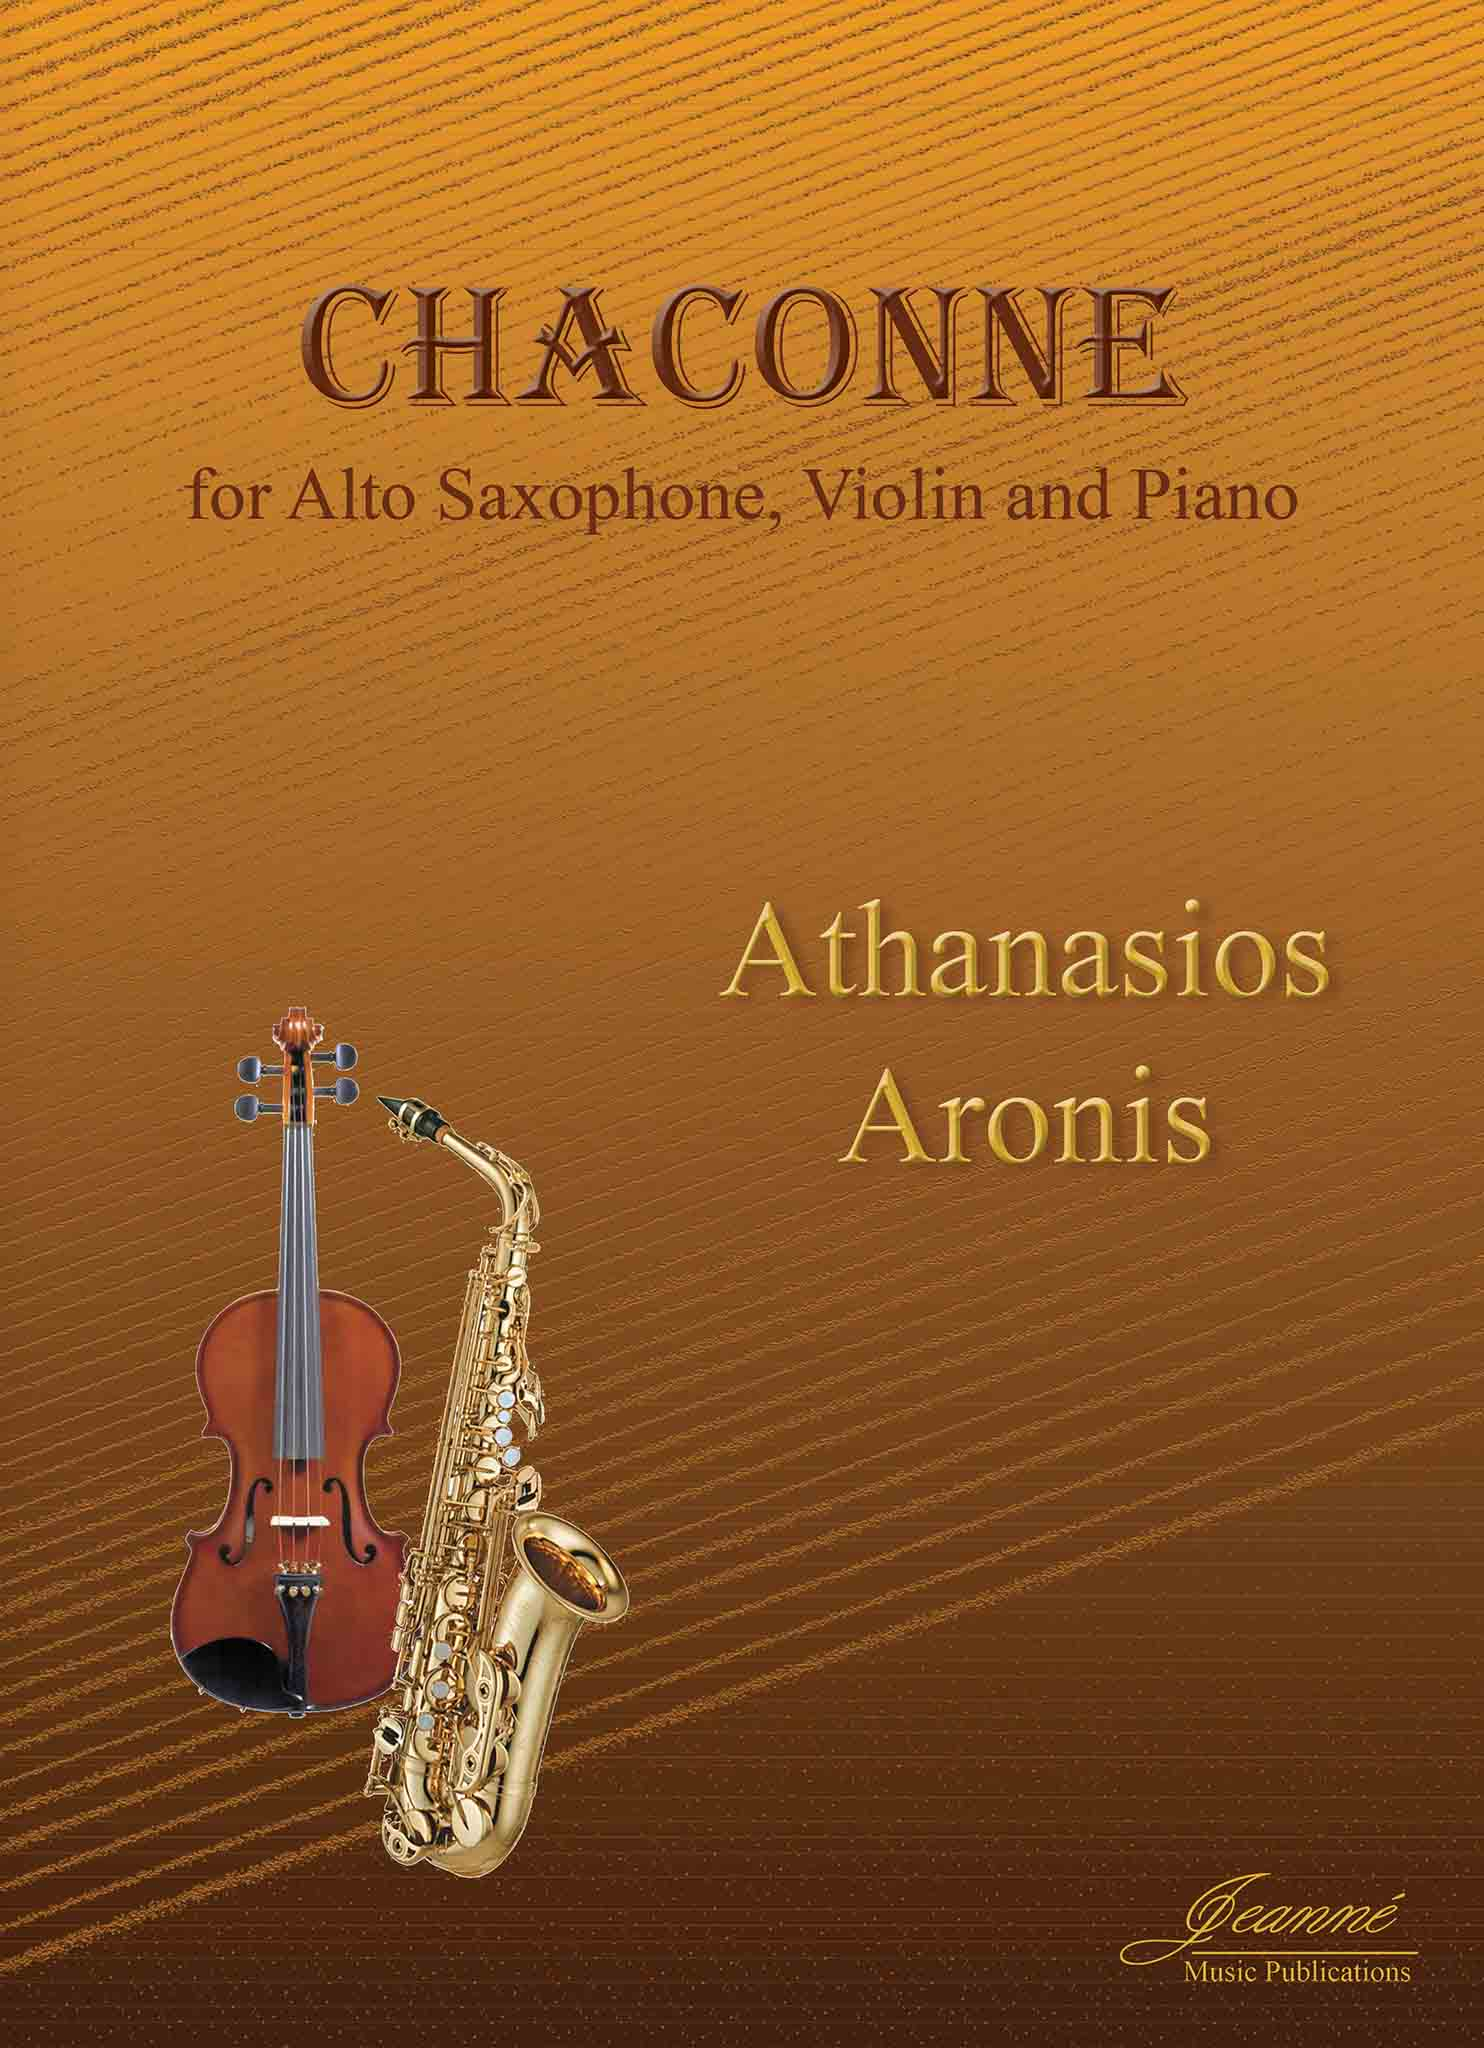Saxophone: (356, 1018, 716, 1945)
Violin: (100, 956, 456, 1763)
